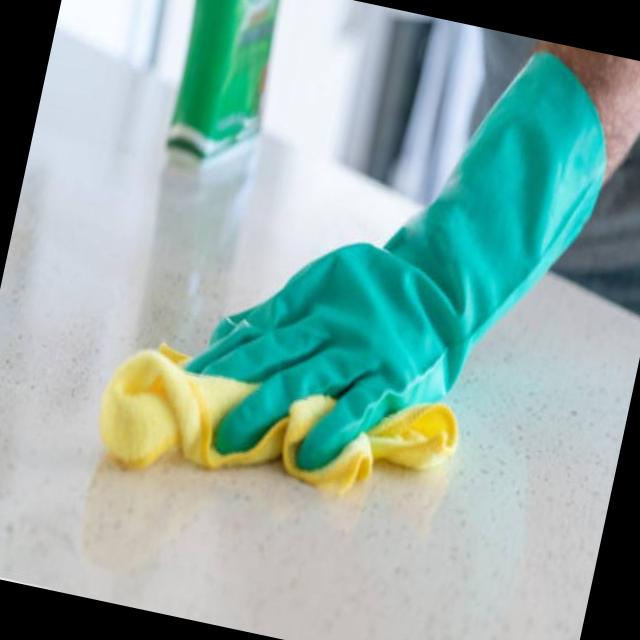Gloves: (86, 0, 628, 550)
